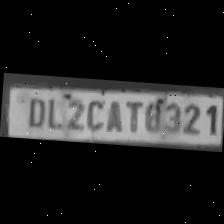1: (200, 102, 220, 136)
2: (178, 100, 202, 135), (61, 95, 84, 131)
3: (161, 99, 181, 134)
8: (140, 98, 162, 134)
A: (102, 97, 124, 133)
C: (82, 96, 104, 132)
D: (22, 93, 46, 130)
L: (43, 94, 63, 130)
T: (120, 98, 142, 134)
